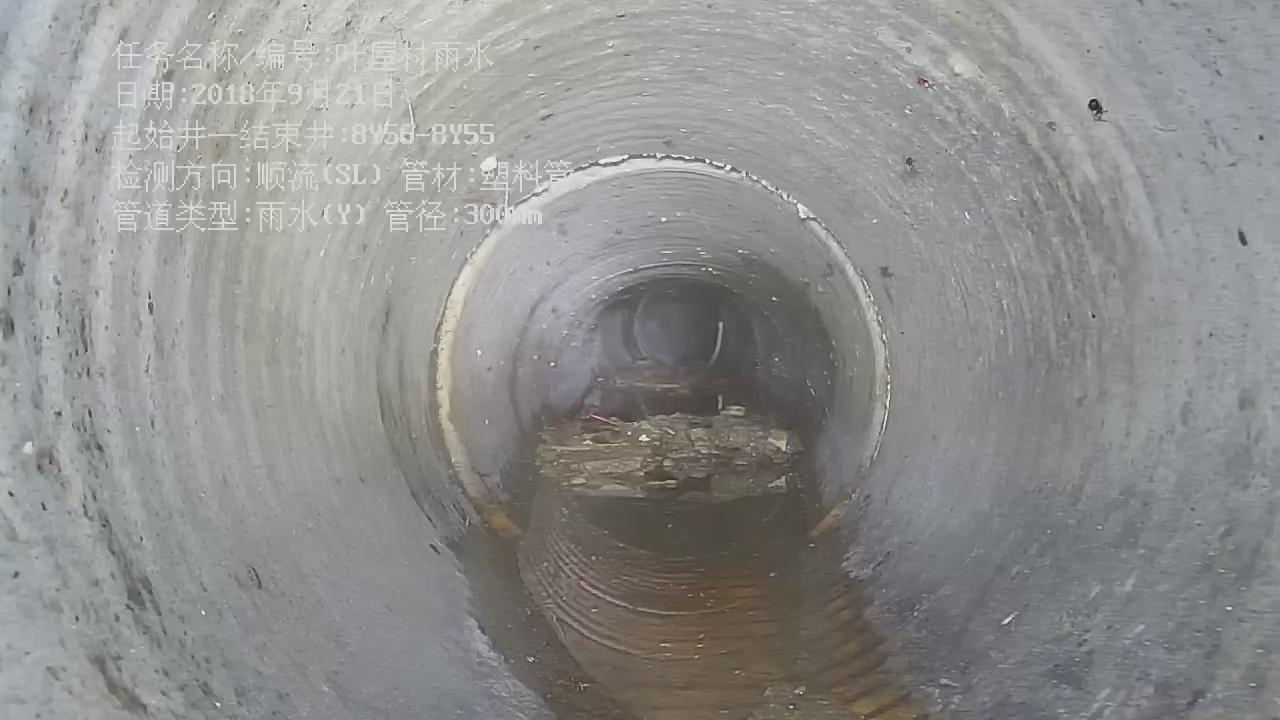CJ: (534, 397, 801, 528)
CKTJ: (430, 147, 898, 550)
